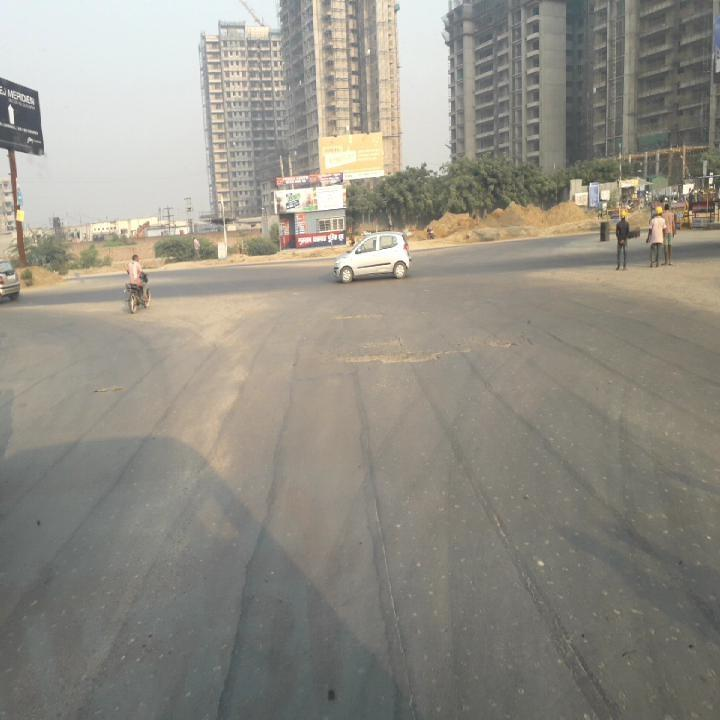pothole: (339, 346, 480, 364), (486, 333, 524, 350)
